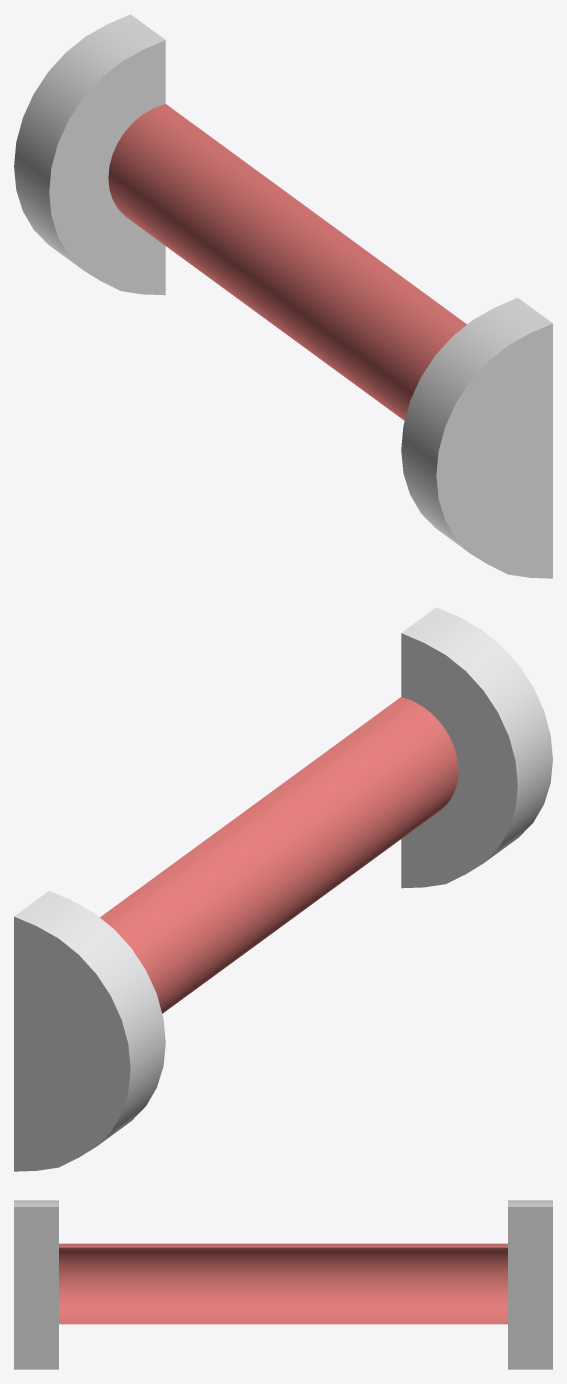
File: End.fbx
3 renders of one model, top to bottom at view 1: azimuth 30°, elevation 25°; view 2: azimuth 150°, elevation 25°; view 3: azimuth 270°, elevation 25°, orthographic. The views are drawn at different scales.
Visible parts, largest first — view 1: End Sides, End Belt; view 2: End Sides, End Belt; view 3: End Belt, End Sides.
Part boxes in pixels (<box>): End Sides: <box>14,14,552,578</box>; End Belt: <box>108,104,466,420</box>; End Sides: <box>14,607,552,1171</box>; End Belt: <box>100,697,458,1013</box>; End Belt: <box>59,1243,507,1324</box>; End Sides: <box>14,1200,552,1369</box>.
Bounding box in the file's own units: 19.13 × 40 × 120.
